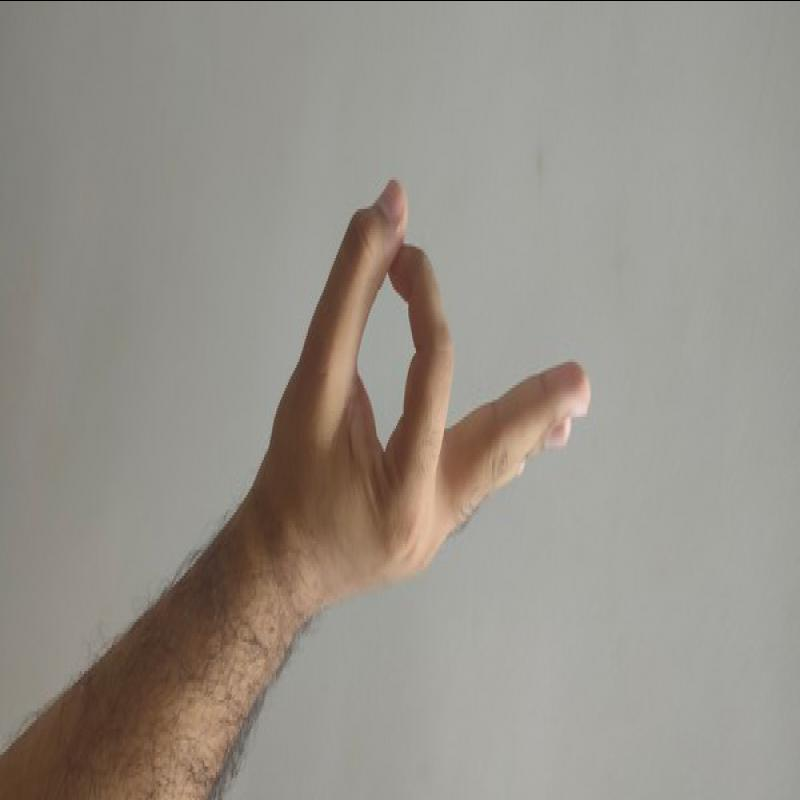Mudraakhyam: (248, 160, 605, 647)
